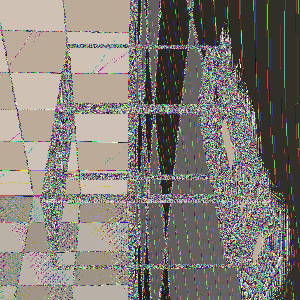Rack: (27, 29, 261, 257)
